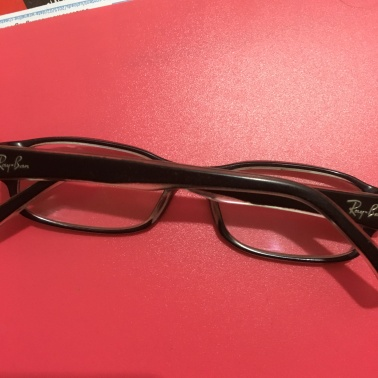glasses: (6, 124, 373, 283)
